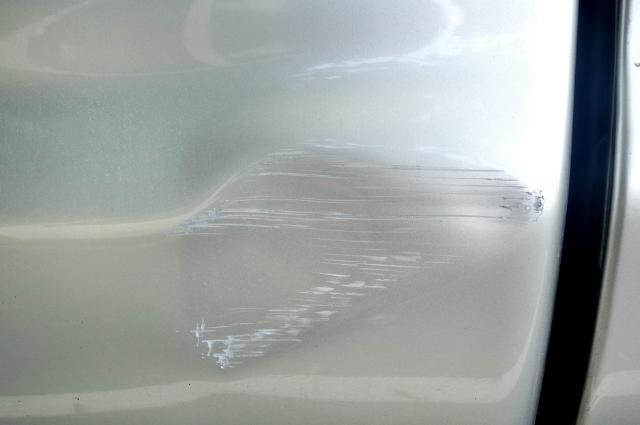Door: (142, 7, 560, 408)
